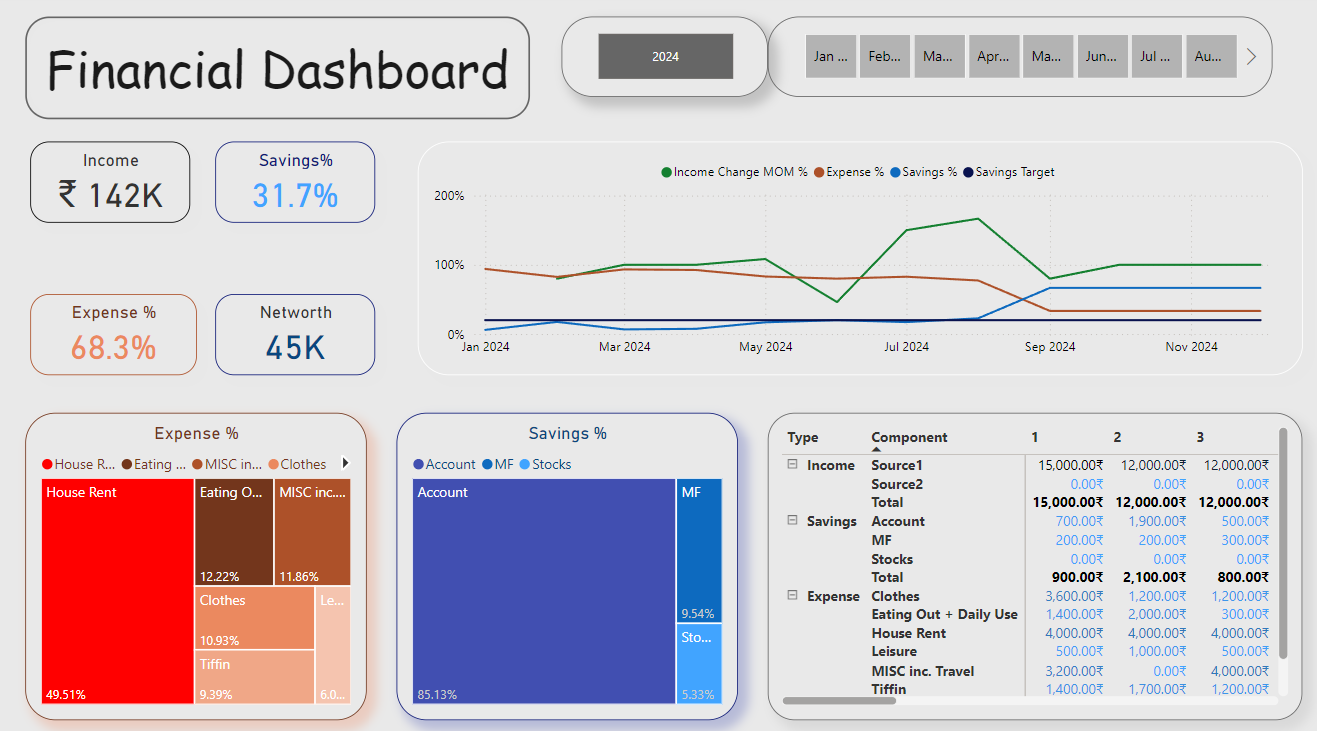

Layout of this report page (visuals, bound fields, positions):
{"tool":"powerbi","page":{"name":"DashBoard","canvas":[1280,720],"ordinal":0},"visuals":[{"type":"card","title":"Income","fields":{"Values":["Key Measures.Income"]},"box":[30.2,142.4,154.4,78.4],"z":0},{"type":"slicer","fields":{"Values":["PersonalFin.Date"]},"box":[742,21.7,487.4,77.2],"z":1000},{"type":"slicer","fields":{"Values":["PersonalFin.Year"]},"box":[542.9,21.7,199.1,77.2],"z":2000},{"type":"card","fields":{"Values":["Key Measures.Title"]},"box":[25.3,21.7,487.4,98.9],"z":3000},{"type":"treemap","title":"Expense %","fields":{"Group":["PersonalFin.Component"],"Values":["Divide(Key Measures.Total Expense, ScopedEval(Key Measures.Total Expense, []))"]},"box":[25.3,404.2,329.4,296.8],"z":4000},{"type":"treemap","title":"Savings %","fields":{"Group":["PersonalFin.Component"],"Values":["Divide(Key Measures.Total Savings, ScopedEval(Key Measures.Total Savings, []))"]},"box":[383.6,404.2,329.4,296.8],"z":5000},{"type":"lineChart","fields":{"Y":["Key Measures.Income Change MOM %","Key Measures.Expense %","Key Measures.Savings %","Key Measures.Savings Target"],"Category":["PersonalFin.Date"]},"box":[404.2,142.4,854.2,225.6],"z":6000},{"type":"pivotTable","fields":{"Values":["Key Measures.Values"],"Columns":["PersonalFin.Month"],"Rows":["Type.Type","PersonalFin.Component"]},"box":[742,404.2,516.4,296.8],"z":7000},{"type":"card","title":"Expense %","fields":{"Values":["Key Measures.Expense %"]},"box":[30.2,250.9,160.5,78.4],"z":8000},{"type":"card","title":"Savings%","fields":{"Values":["Key Measures.Savings %"]},"box":[208.7,142.4,154.4,78.4],"z":9000},{"type":"card","title":"Networth","fields":{"Values":["Key Measures.Networth"]},"box":[208.7,250.9,154.4,78.4],"z":10000}]}

Visuals, with their boxes in screenshot pixels (x1, y1, x2, y2), scaled from the page's 1280x720 canvas onto the 1317x731 screenshot:
"Income" card: <bbox>31, 145, 190, 224</bbox>
slicer - PersonalFin.Date: <bbox>763, 22, 1265, 100</bbox>
slicer - PersonalFin.Year: <bbox>559, 22, 763, 100</bbox>
card - Key Measures.Title: <bbox>26, 22, 528, 122</bbox>
"Expense %" treemap: <bbox>26, 410, 365, 712</bbox>
"Savings %" treemap: <bbox>395, 410, 734, 712</bbox>
lineChart - Key Measures.Income Change MOM % x Key Measures.Expense %: <bbox>416, 145, 1295, 374</bbox>
pivotTable - Key Measures.Values x PersonalFin.Month: <bbox>763, 410, 1295, 712</bbox>
"Expense %" card: <bbox>31, 255, 196, 334</bbox>
"Savings%" card: <bbox>215, 145, 374, 224</bbox>
"Networth" card: <bbox>215, 255, 374, 334</bbox>
